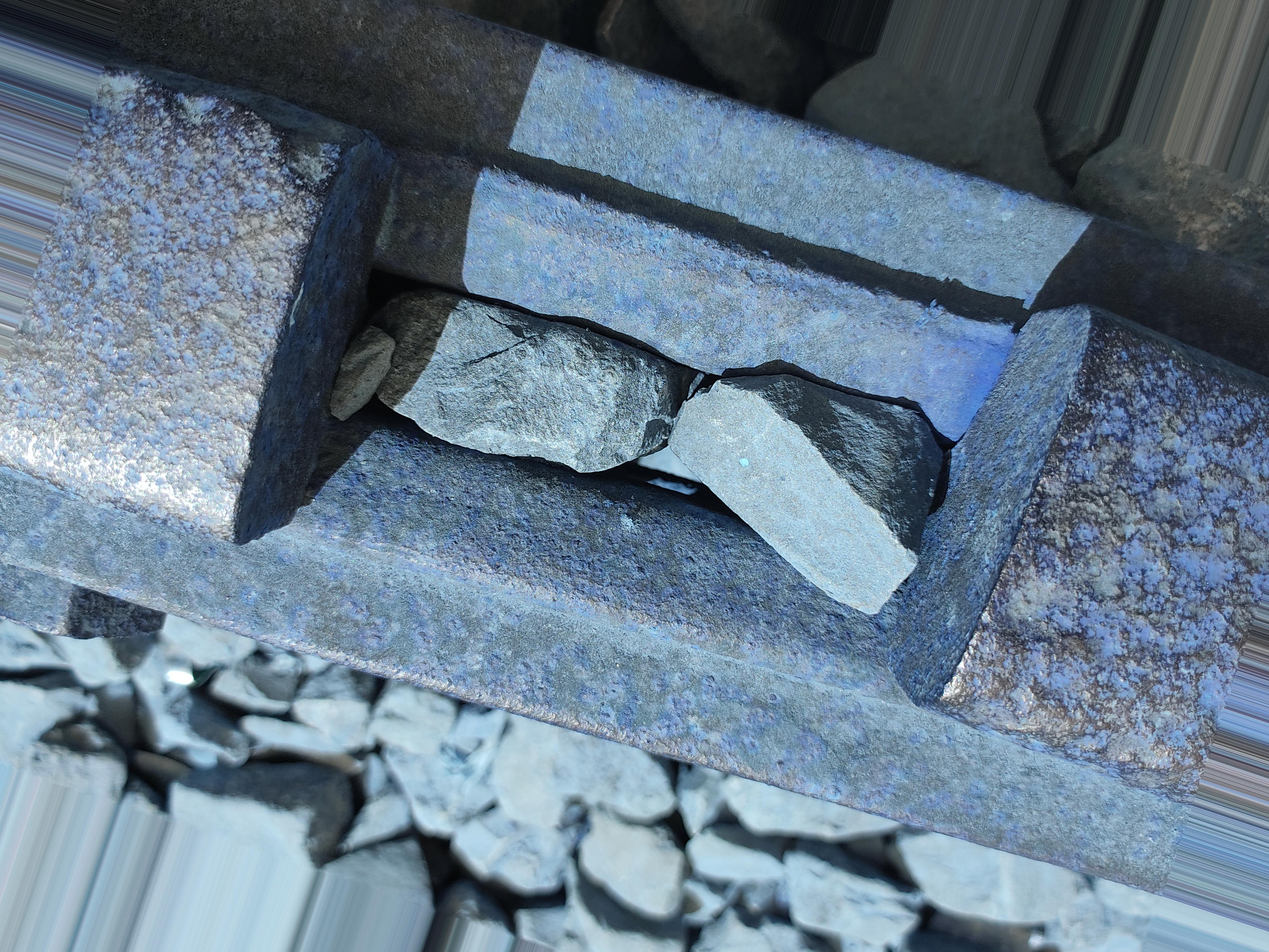tracks_fault: (159, 100, 1155, 744)
